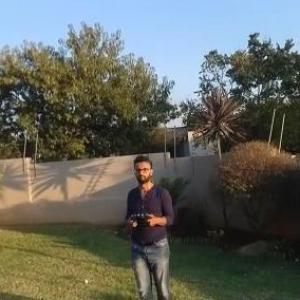follow: (123, 150, 179, 299)
